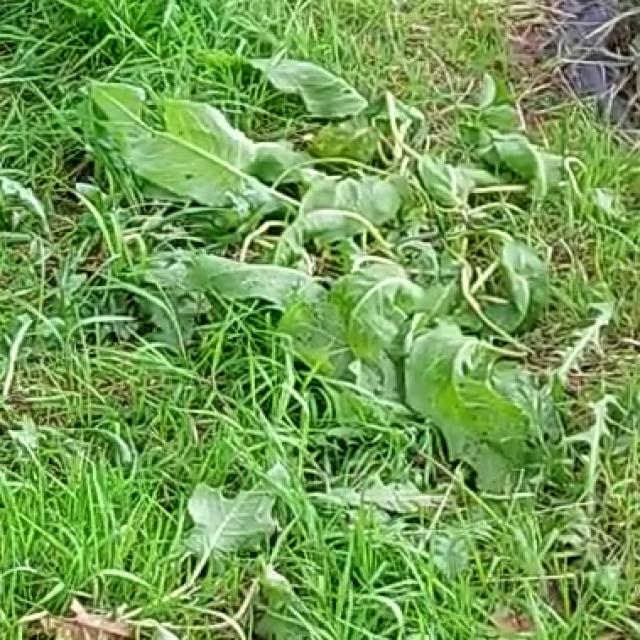organic waste: (89, 49, 586, 420)
